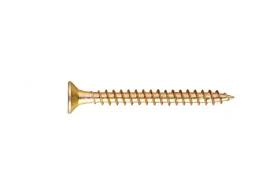TORNILLOS: (60, 72, 243, 124)
